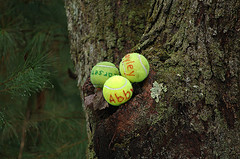tennis ball: (116, 49, 153, 86), (100, 73, 135, 107), (89, 59, 122, 91)
